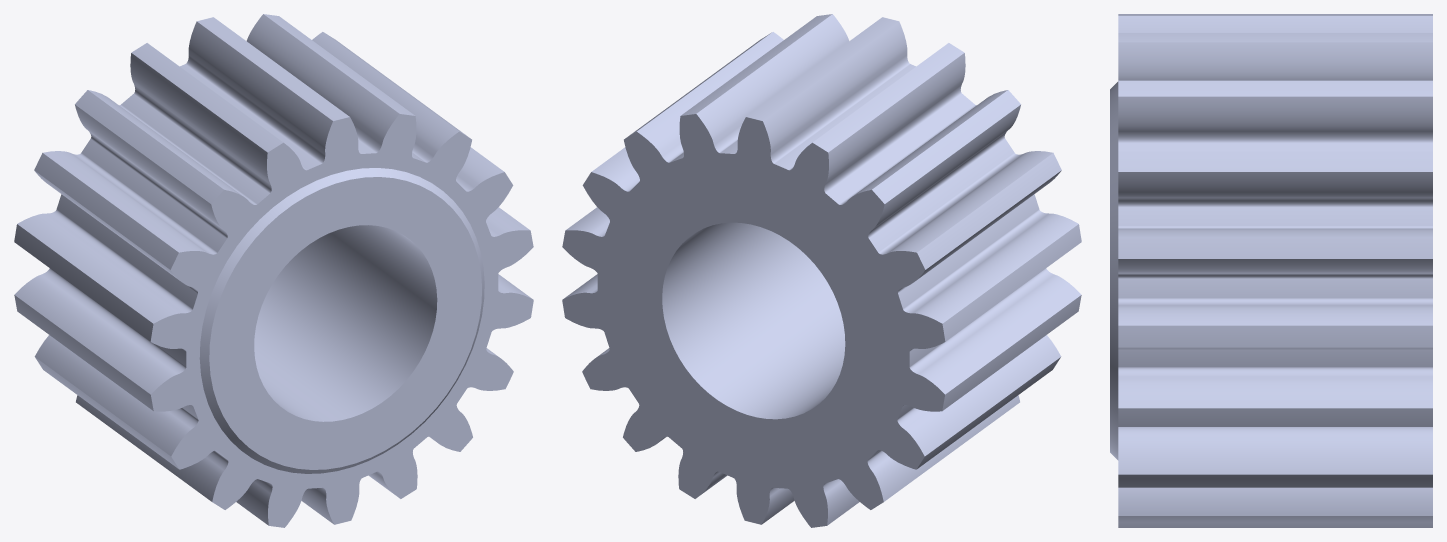
Rendered from REV_21_2101_P05_10_solid1.obj.
The picture shows the model from 3 angles, left to right: view 1: azimuth 30°, elevation 25°; view 2: azimuth 150°, elevation 25°; view 3: azimuth 270°, elevation 25°; orthographic projection. The views are drawn at different scales.
Parts seen in each view (by area): view 1: mesh27830, mesh27827, mesh27829, mesh27828, mesh27880, mesh27873, mesh27882, mesh27875, mesh27871, mesh27878, mesh27868, mesh27848 (+21 smaller); view 2: mesh27831, mesh27829, mesh27828, mesh27880, mesh27873, mesh27882, mesh27875, mesh27871, mesh27878, mesh27868, mesh27848, mesh27849 (+18 smaller); view 3: mesh27895, mesh27902, mesh27899, mesh27874, mesh27900, mesh27893, mesh27897, mesh27833, mesh27834, mesh27832, mesh27896, mesh27835 (+15 smaller).
Part boxes in pixels (box(x1,y1,x2,y2)): mesh27830: box(150, 114, 533, 527); mesh27827: box(209, 177, 481, 469); mesh27829: box(254, 256, 424, 421); mesh27828: box(295, 225, 437, 351); mesh27880: box(14, 268, 186, 394); mesh27873: box(185, 21, 332, 163); mesh27882: box(17, 209, 192, 323); mesh27875: box(246, 14, 399, 152); mesh27871: box(130, 53, 271, 193); mesh27878: box(35, 335, 198, 456); mesh27868: box(43, 151, 217, 254); mesh27848: box(75, 90, 223, 203); mesh27831: box(562, 114, 945, 527); mesh27829: box(674, 254, 845, 419); mesh27828: box(662, 222, 804, 348); mesh27880: box(909, 268, 1081, 394); mesh27873: box(763, 21, 910, 163); mesh27882: box(903, 209, 1078, 323); mesh27875: box(696, 14, 849, 152); mesh27871: box(824, 53, 965, 193); mesh27878: box(897, 335, 1060, 456); mesh27868: box(878, 151, 1052, 254); mesh27848: box(872, 90, 1020, 203); mesh27849: box(917, 153, 1061, 269); mesh27895: box(1118, 427, 1432, 474); mesh27902: box(1118, 96, 1432, 143); mesh27899: box(1118, 366, 1432, 408); mesh27874: box(1118, 42, 1432, 80); mesh27900: box(1118, 172, 1432, 207); mesh27893: box(1118, 487, 1432, 515); mesh27897: box(1118, 298, 1432, 325); mesh27833: box(1118, 325, 1432, 347); mesh27834: box(1118, 236, 1432, 258); mesh27832: box(1118, 151, 1432, 171); mesh27896: box(1118, 259, 1432, 278); mesh27835: box(1118, 408, 1432, 426).
Size of the model in its own units: 0.0126 by 0.0127 by 0.008.
